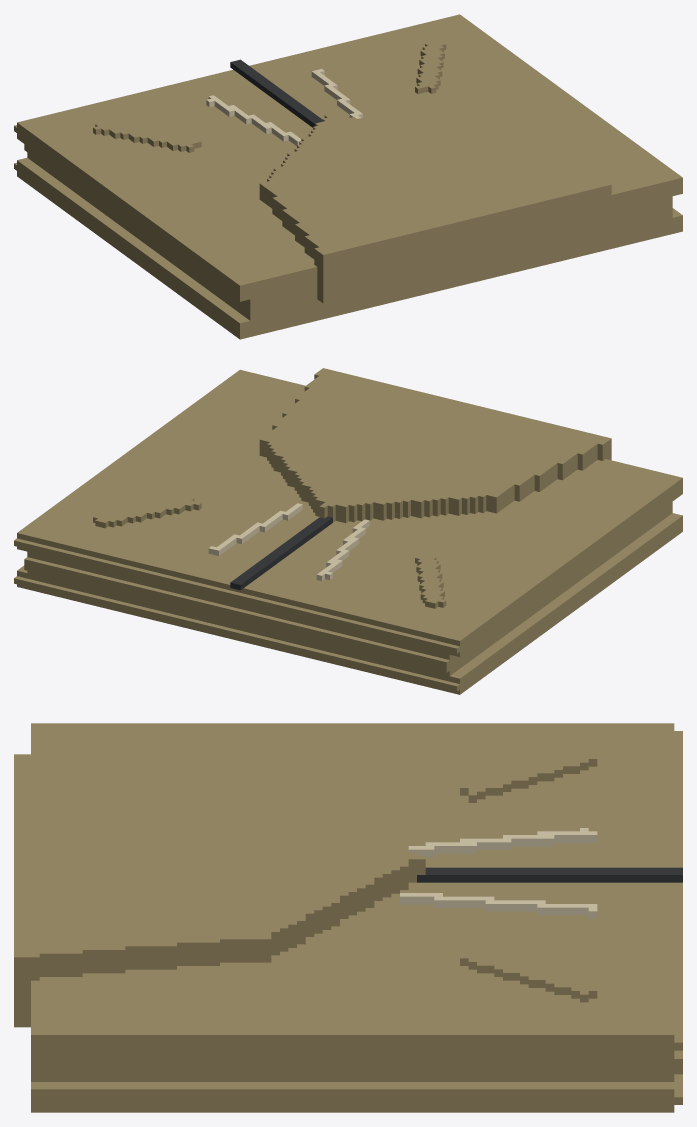
The model's file is jacket_light.glb.
The picture shows the model from 3 angles, top to bottom: view 1: azimuth 30°, elevation 25°; view 2: azimuth 150°, elevation 25°; view 3: azimuth 270°, elevation 25°; orthographic projection. The views are drawn at different scales.
Visible parts, largest first — view 1: jacket_light:compound; view 2: jacket_light:compound; view 3: jacket_light:compound.
Boxes of the visible parts, x1=… form: jacket_light:compound: x1=14, y1=14, x2=682, y2=339; jacket_light:compound: x1=14, y1=368, x2=682, y2=694; jacket_light:compound: x1=14, y1=723, x2=682, y2=1112.
Bounding box in the file's own units: 0.344 × 0.052 × 0.312.
